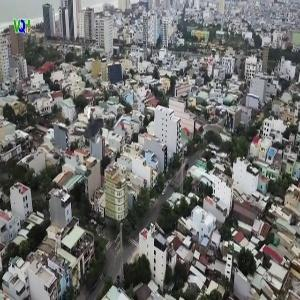drone: (67, 100, 123, 156)
